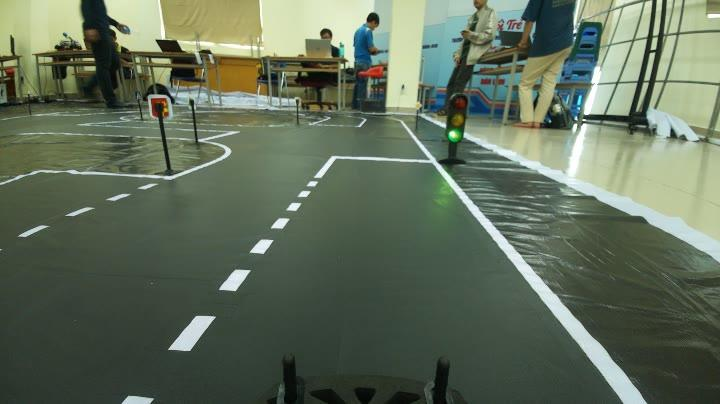trafficlight: (434, 88, 480, 174)
